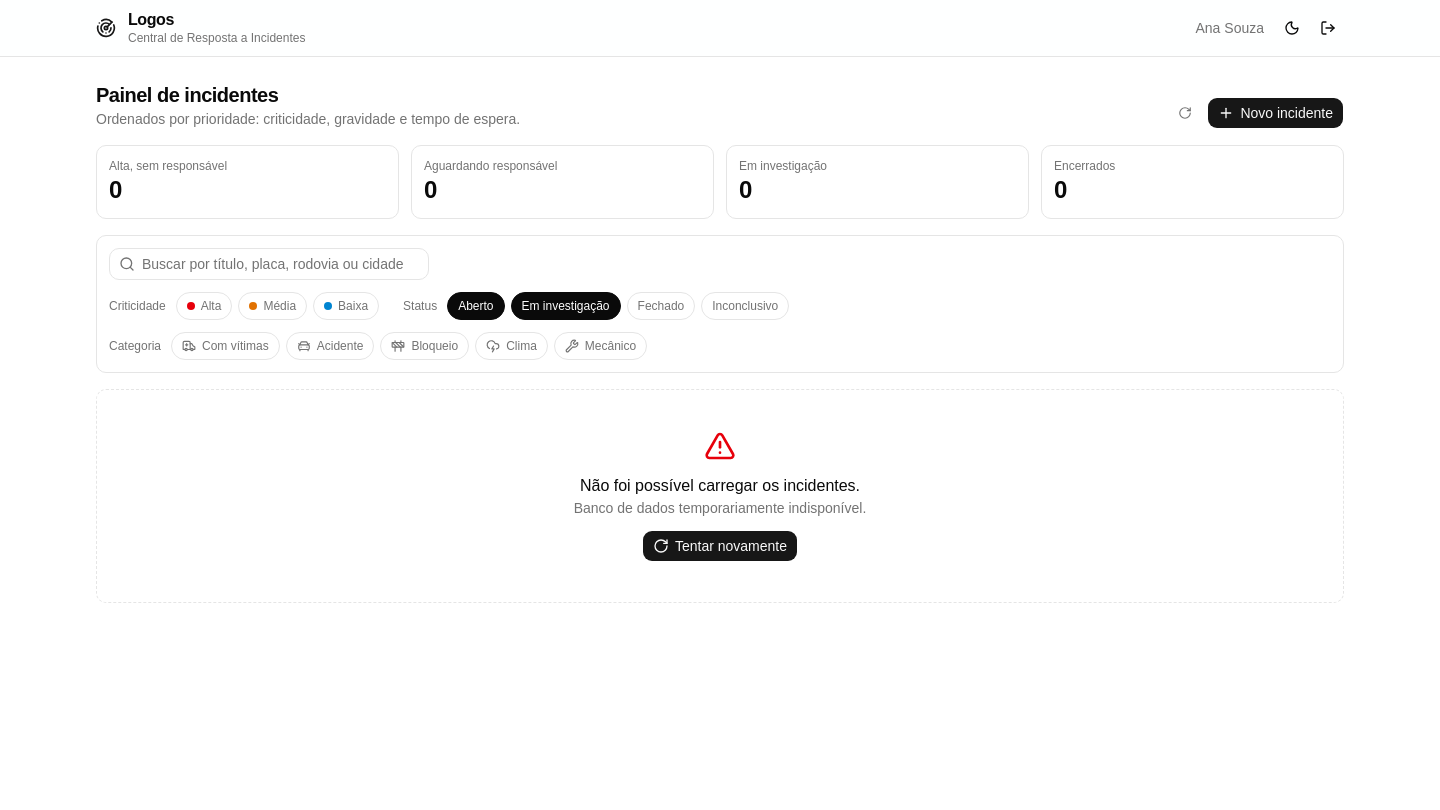
Scenario: painel de incidentes › erro ao carregar mostra a mensagem e "Tentar novamente" funciona
Expected: the text "Não foi possível carregar os incidentes." is shown, [574,474,866,498]
Expected: the text "Banco de dados temporariamente indisponível." is shown, [574,498,866,518]
Click the button "Tentar novamente": (720, 546) [642,530,798,562]
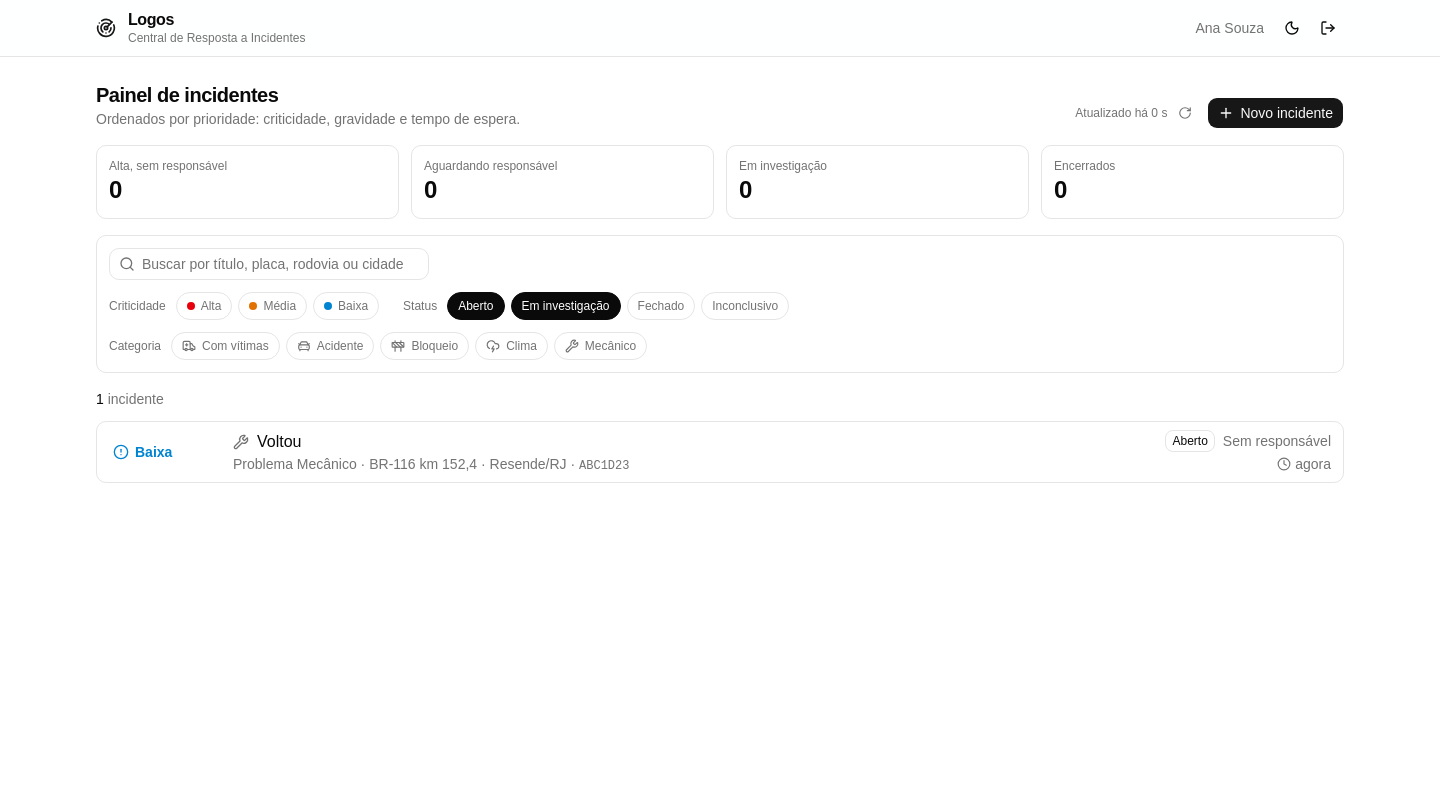
Expected: the text "Voltou" is shown, [257,430,302,454]
